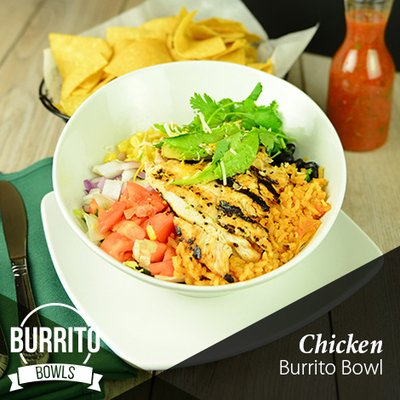salad: (0, 180, 36, 326)
sushi: (51, 60, 367, 383), (20, 58, 351, 298)
